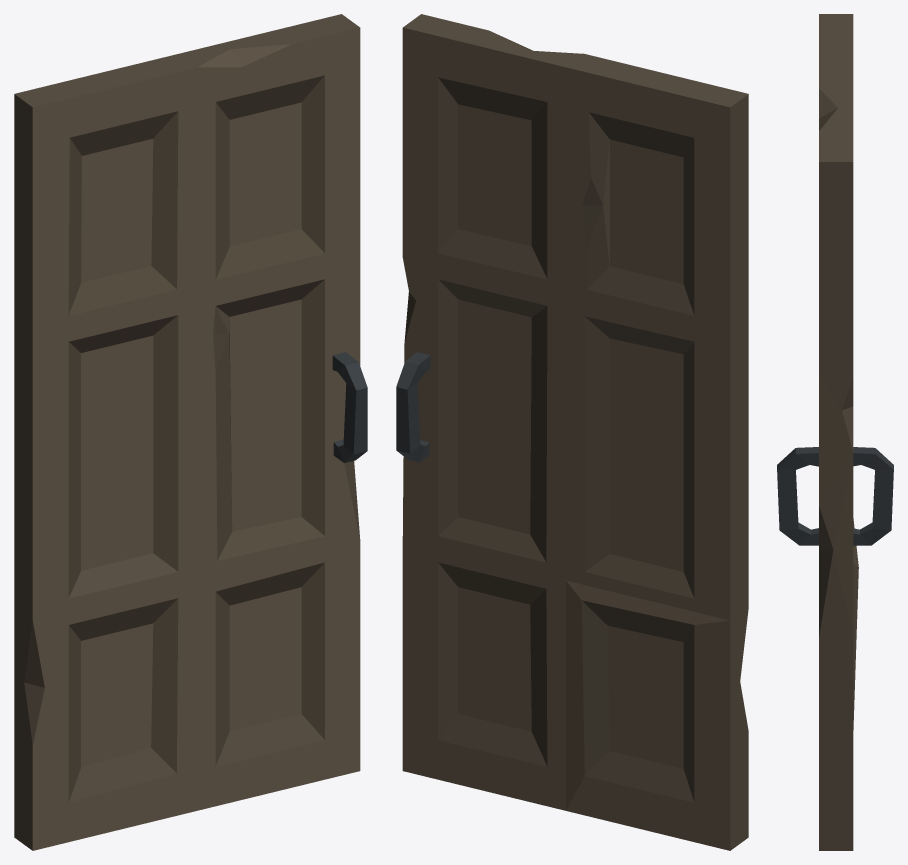
Rendered from SM_Bld_Shop_Door_05_Door.glb.
3 renders of one model, left to right at view 1: azimuth 30°, elevation 25°; view 2: azimuth 150°, elevation 25°; view 3: azimuth 270°, elevation 25°, orthographic. The views are drawn at different scales.
Parts seen in each view (by area): view 1: SM_Bld_Shop_Door_05_Door; view 2: SM_Bld_Shop_Door_05_Door; view 3: SM_Bld_Shop_Door_05_Door.
Boxes of the visible parts, box(x1,y1,x2,y2) form: SM_Bld_Shop_Door_05_Door: box(14, 14, 367, 850); SM_Bld_Shop_Door_05_Door: box(396, 14, 748, 850); SM_Bld_Shop_Door_05_Door: box(777, 14, 893, 850).
Bounding box in the file's own units: 1.03 × 2.22 × 0.3419.
Materials: 1 (1 with a texture image).
